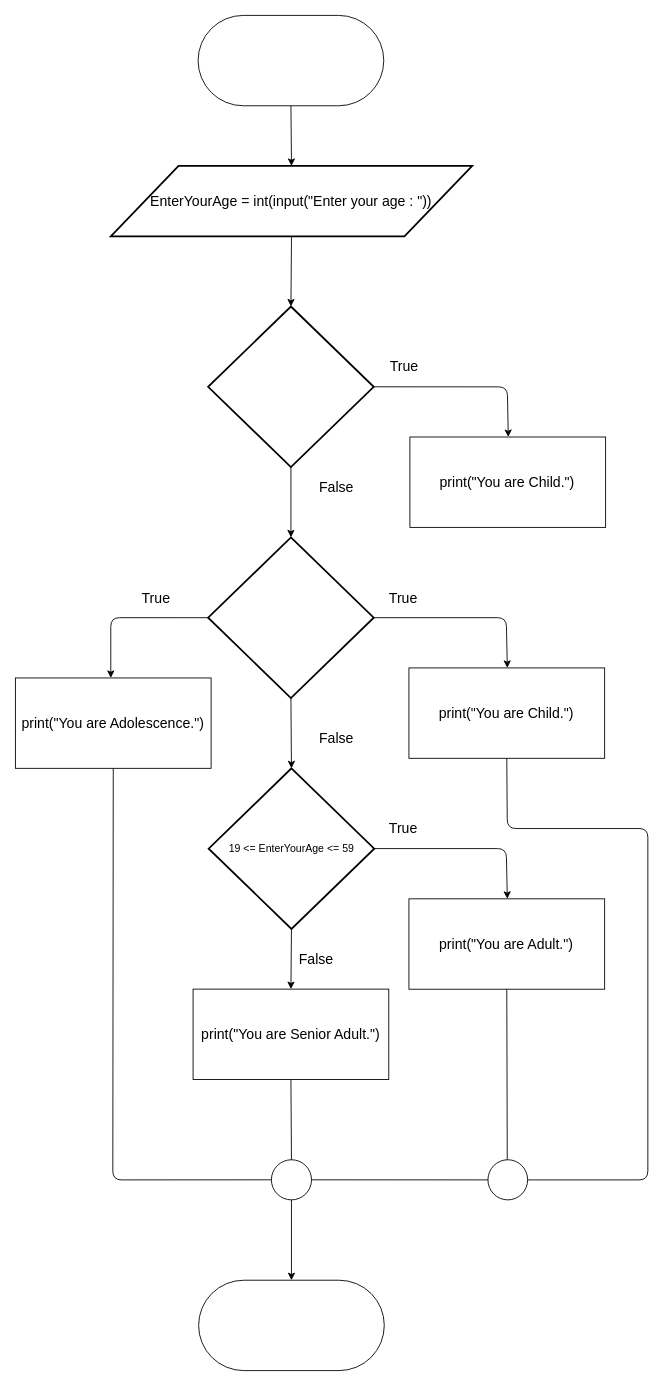
This 664x1386 diagram has some shape labels left out. Each missing label, with the centre of its shape:
0 <= EnterYourAge <= 12: pixel 290 386
13 <= EnterYourAge <= 18: pixel 290 617
Start: pixel 290 60
Stop: pixel 291 1325
